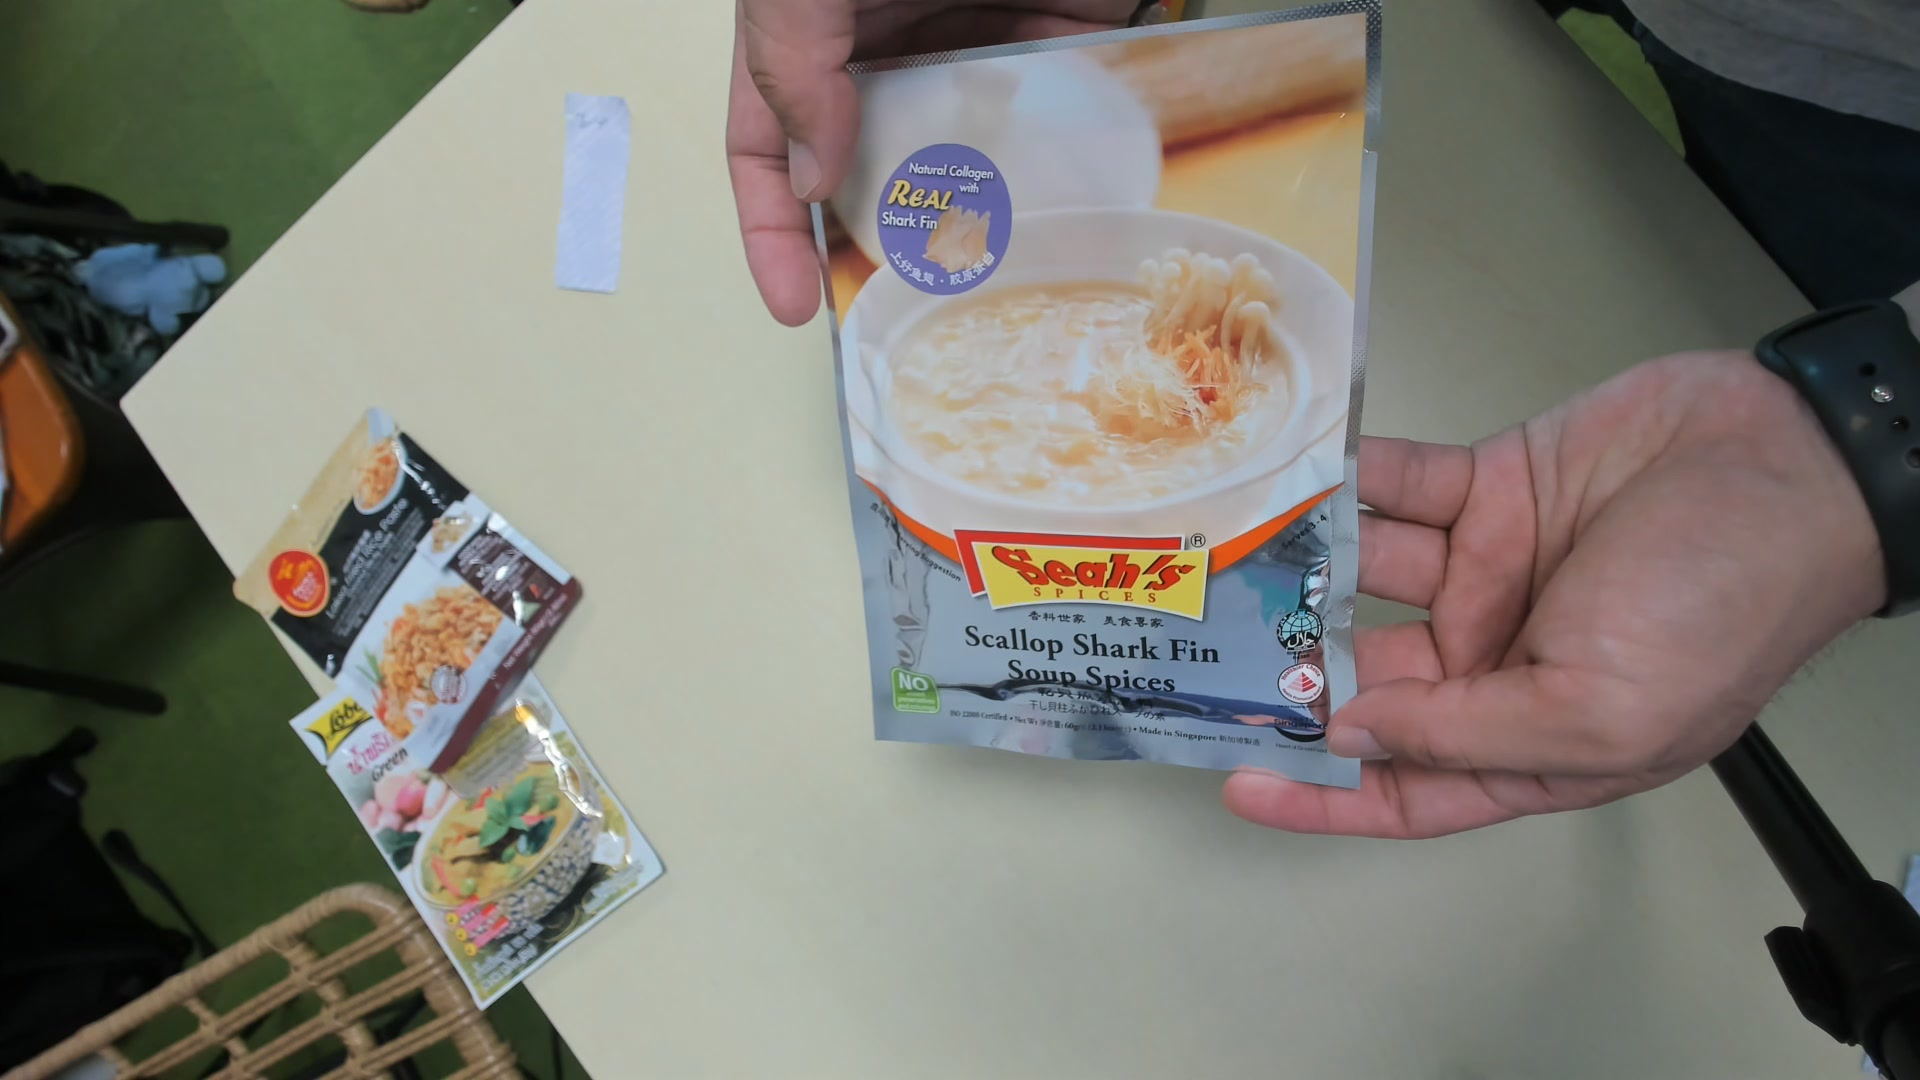OtherSauceDressing_0-99g_Halal_NonHealthy: (796, 9, 1373, 800)
